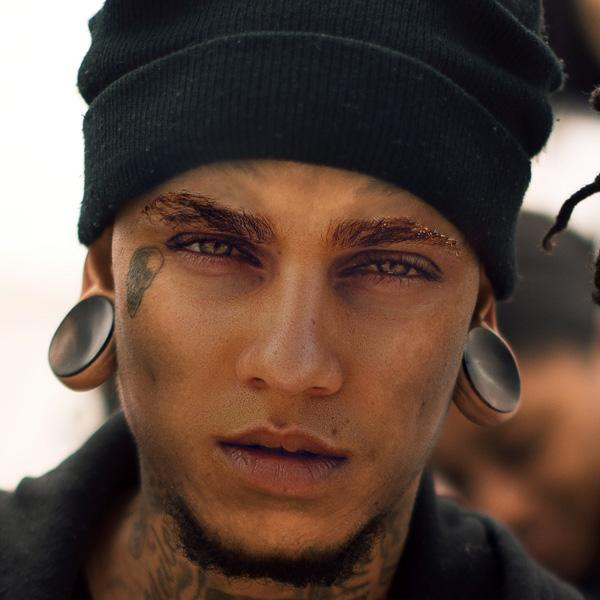Eyes: (154, 219, 271, 284), (326, 238, 445, 300)
